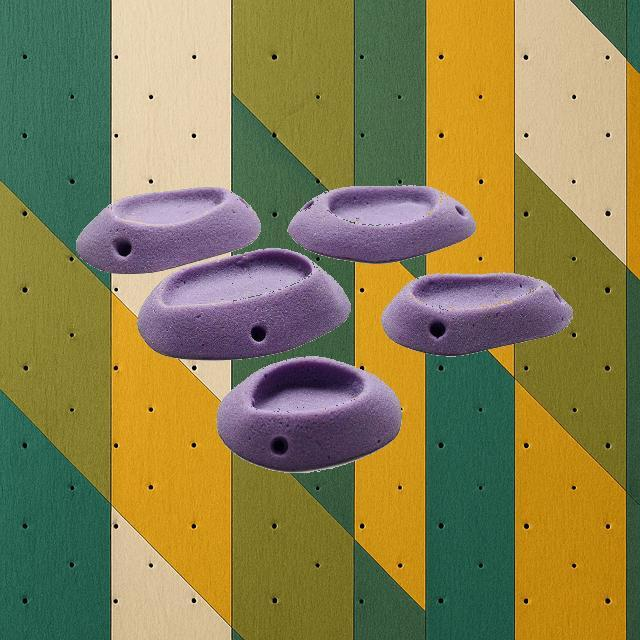Pocket: (135, 245, 351, 361), (215, 355, 402, 473), (73, 185, 261, 275), (379, 270, 573, 356), (286, 182, 476, 264)
